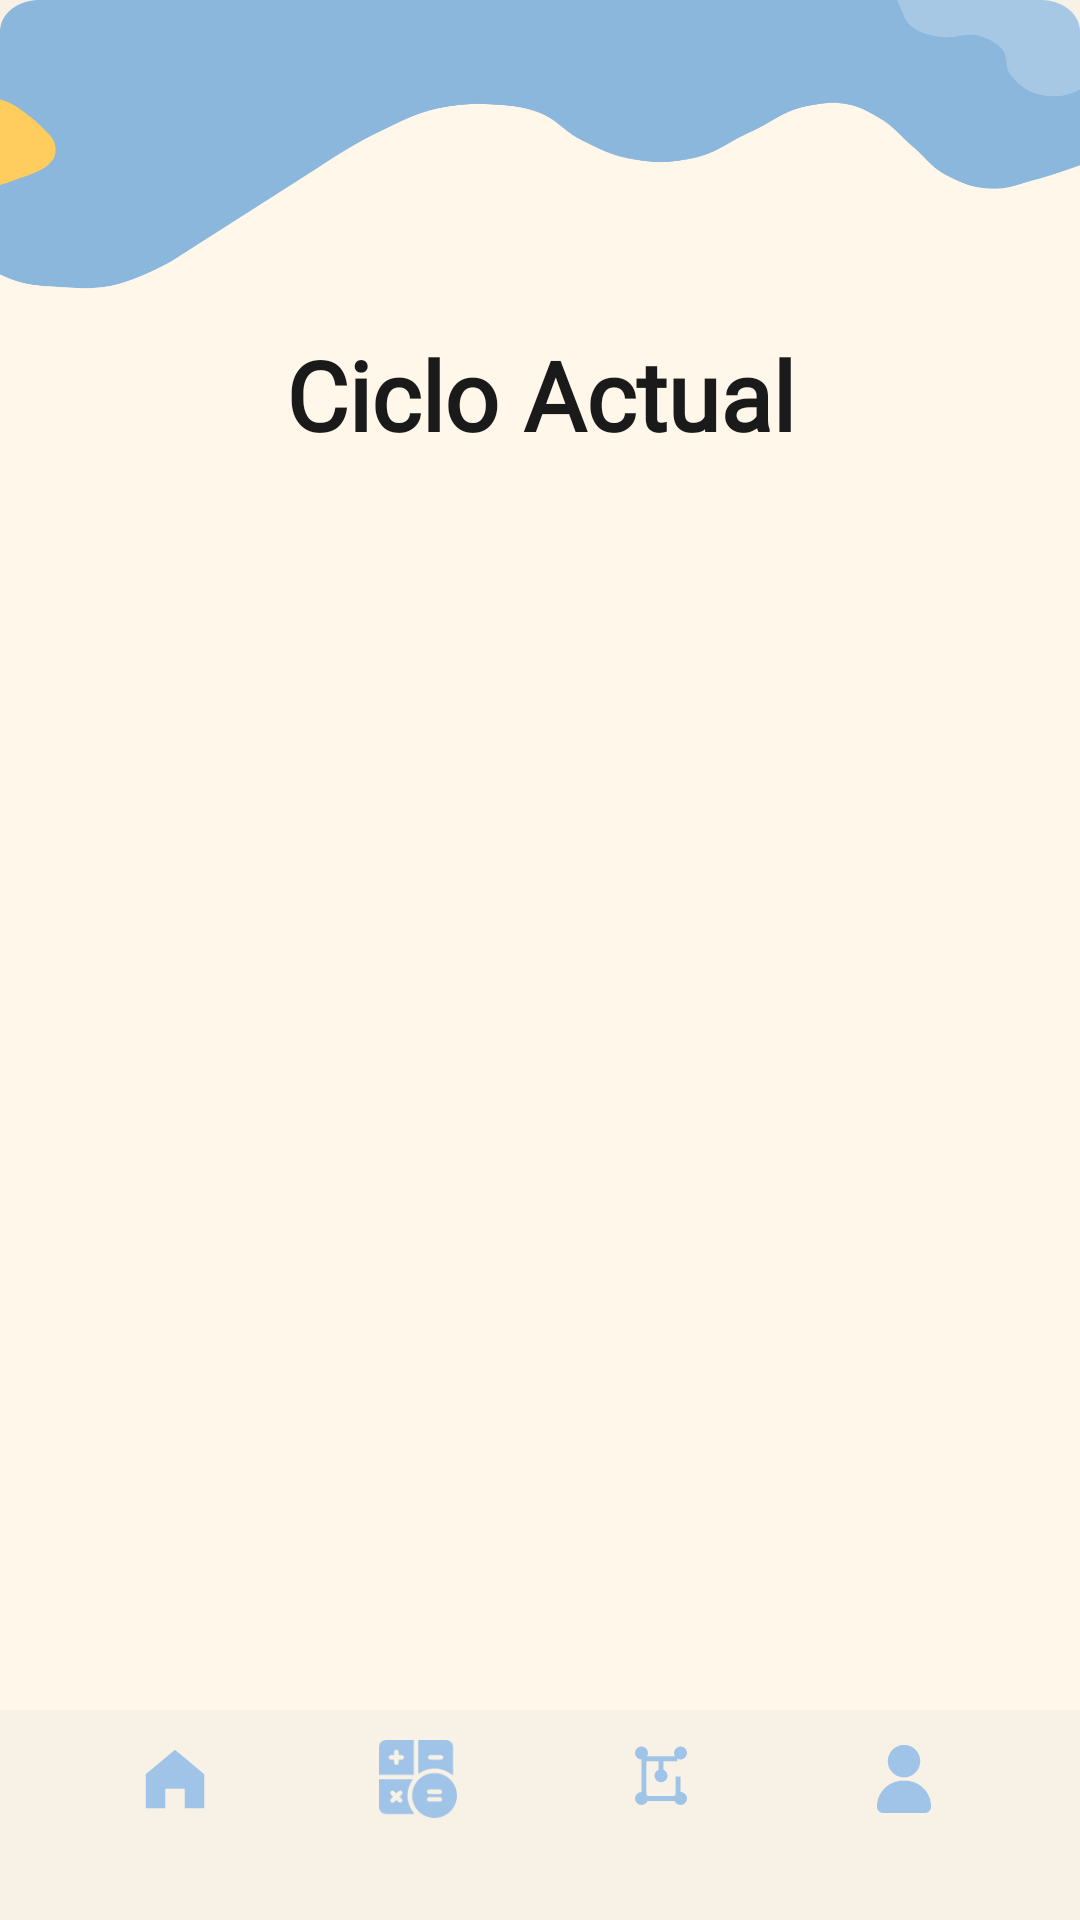

Screen size 1080*1920. Icon name, then its box in pixels as (x1, y1, x2, y2):
Inicio: (146, 1750, 204, 1808)
Perfil: (877, 1745, 931, 1813)
